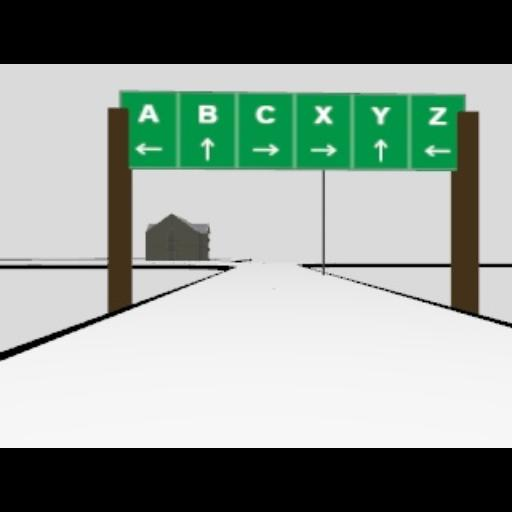A: (138, 102, 158, 122)
B: (196, 104, 216, 124)
C: (254, 104, 276, 124)
Left: (134, 142, 164, 156), (422, 144, 452, 156)
Right: (252, 143, 280, 157), (308, 144, 336, 156)
Straight: (373, 138, 387, 162), (200, 136, 214, 160)
X: (314, 104, 332, 124)
Y: (370, 104, 390, 124)
Z: (428, 106, 448, 124)
